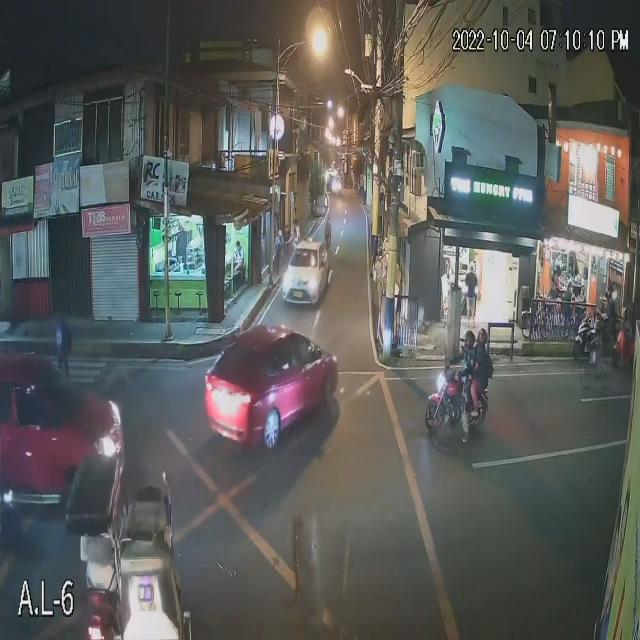0 motorcycle: (418, 369, 491, 436), (567, 313, 607, 367)
1 rider: (457, 344, 477, 399), (476, 347, 497, 397)
2 helmet: (476, 324, 491, 351), (462, 326, 478, 351)
